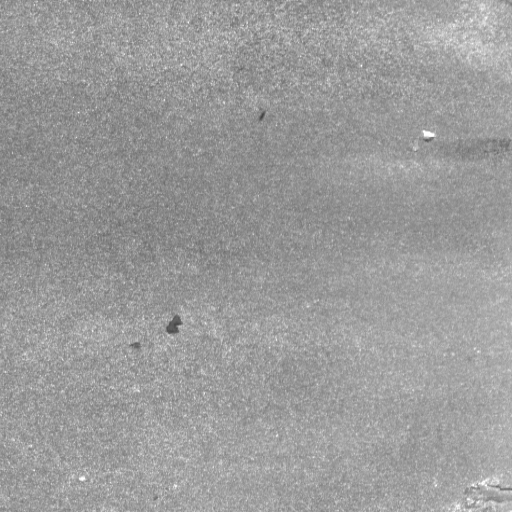aokeng: (462, 478, 512, 508), (162, 308, 186, 338), (420, 128, 439, 146)
